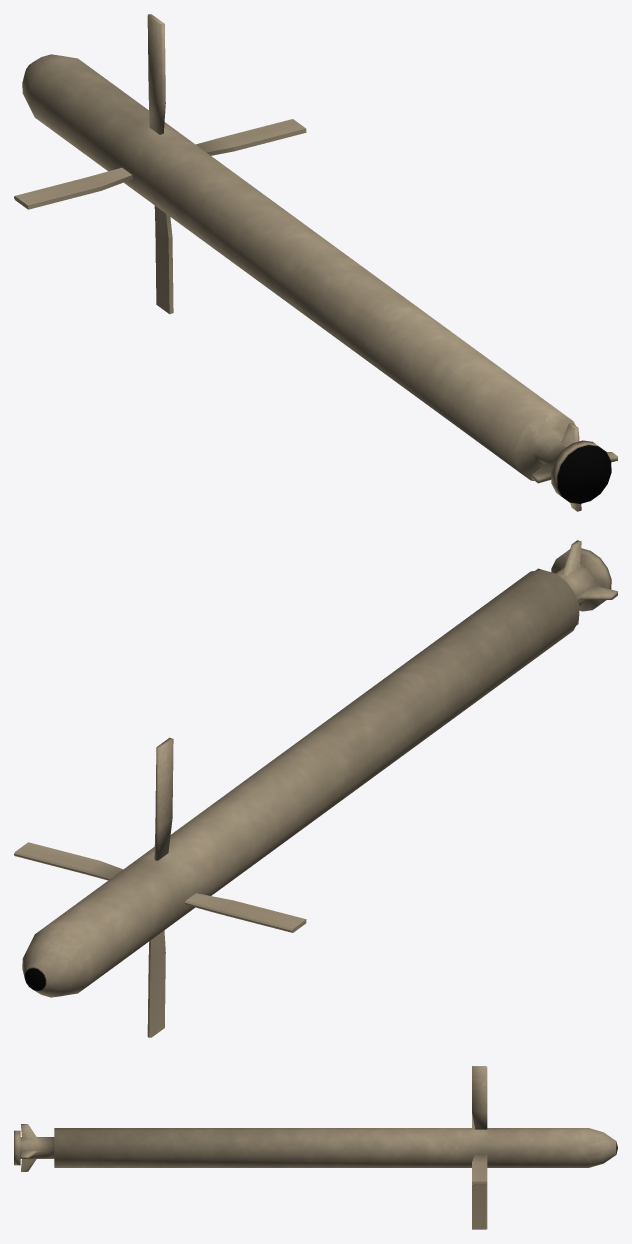
The model's file is msl_manpads.glb.
3 views of the same model, one above another, from view 1: azimuth 30°, elevation 25°; view 2: azimuth 150°, elevation 25°; view 3: azimuth 270°, elevation 25° (orthographic). The views are drawn at different scales.
Visible parts, largest first — view 1: body|Rocket, body|stab; view 2: body|Rocket, body|stab; view 3: body|Rocket, body|stab.
Part boxes in pixels (x1=…): body|Rocket: x1=22, y1=54, x2=617, y2=511; body|stab: x1=14, y1=14, x2=306, y2=314; body|Rocket: x1=22, y1=540, x2=617, y2=997; body|stab: x1=14, y1=737, x2=306, y2=1037; body|Rocket: x1=14, y1=1124, x2=617, y2=1171; body|stab: x1=472, y1=1066, x2=487, y2=1229.
Bounding box in the file's own units: 0.4769 × 0.4769 × 1.63.
2 materials, 2 textured.
